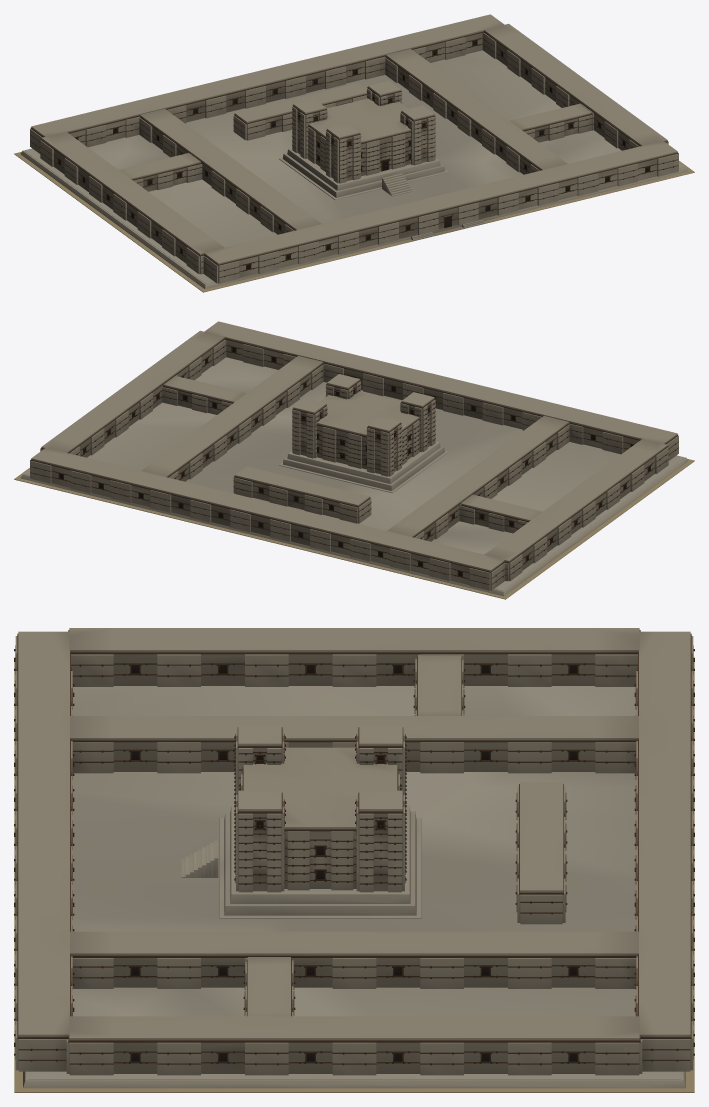
Rendered from taakha-maryam.glb.
3 views of the same model, one above another, from view 1: azimuth 30°, elevation 25°; view 2: azimuth 150°, elevation 25°; view 3: azimuth 270°, elevation 25° (orthographic). The views are drawn at different scales.
Parts seen in each view (by area): view 1: p1_ranges, p0_platform, p2_pavilion; view 2: p1_ranges, p0_platform, p2_pavilion; view 3: p1_ranges, p0_platform, p2_pavilion.
Part boxes in pixels (x1,y1,x2,y2): p1_ranges: [30, 14, 678, 283]; p0_platform: [14, 50, 694, 292]; p2_pavilion: [279, 81, 448, 200]; p1_ranges: [30, 321, 678, 590]; p0_platform: [14, 357, 694, 599]; p2_pavilion: [279, 374, 448, 493]; p1_ranges: [14, 628, 694, 1075]; p0_platform: [14, 662, 694, 1092]; p2_pavilion: [181, 725, 421, 918].
Bounding box in the file's own units: 120 × 14.27 × 80.1.
